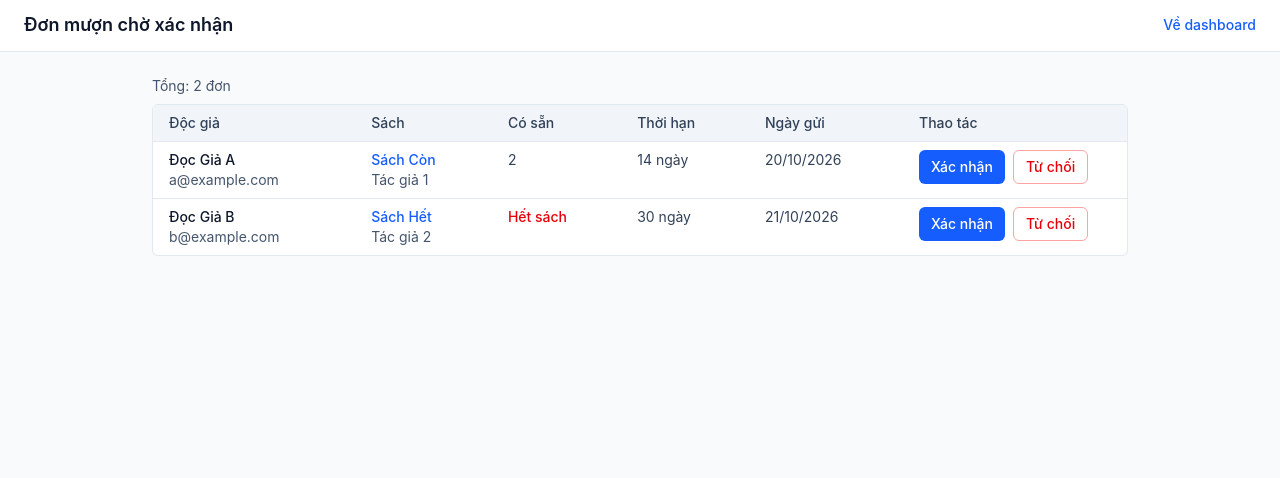
Test case: BorrowRequestsPage (2.3.2) › edge 2: xác nhận khi kho về 0 → báo lỗi, mở form từ chối gợi ý "Hết sách"
The image size is (1280, 478).
Expected: the row named "Đơn Sách Còn của Đọc Giả A" is shown, 153,142 -> 1127,198
Click the button with aria-label "Xác nhận đơn Sách Còn của Đọc Giả A": (962, 167) 919,150 -> 1005,184
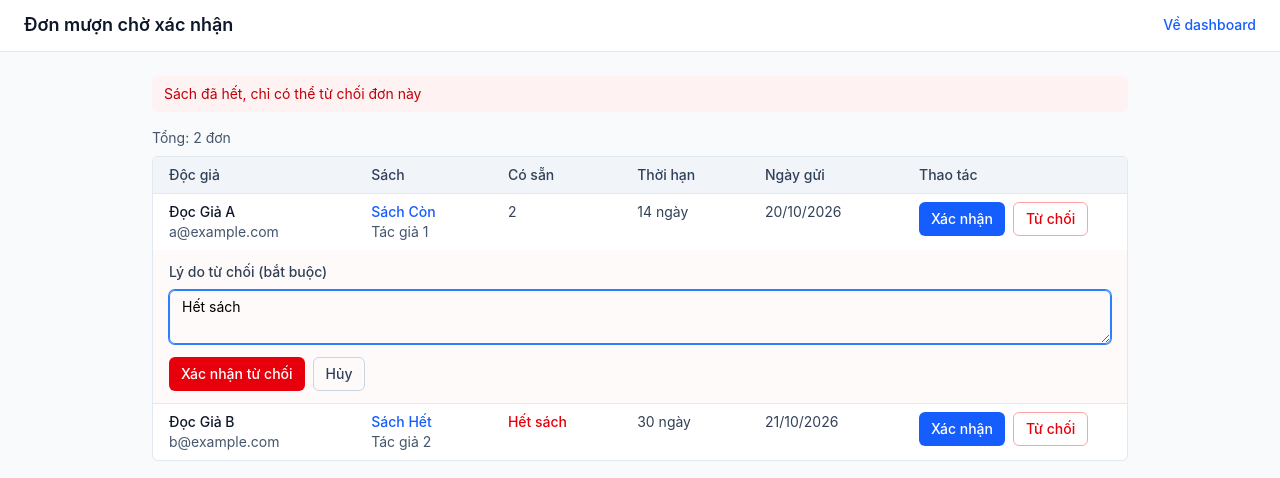
Expected: the message reads "Sách đã hết, chỉ có thể từ chối đơn này", 164,85 -> 421,102
Expected: the text box labelled "Lý do từ chối (bắt buộc)" holds "Hết sách", 169,290 -> 1111,344
